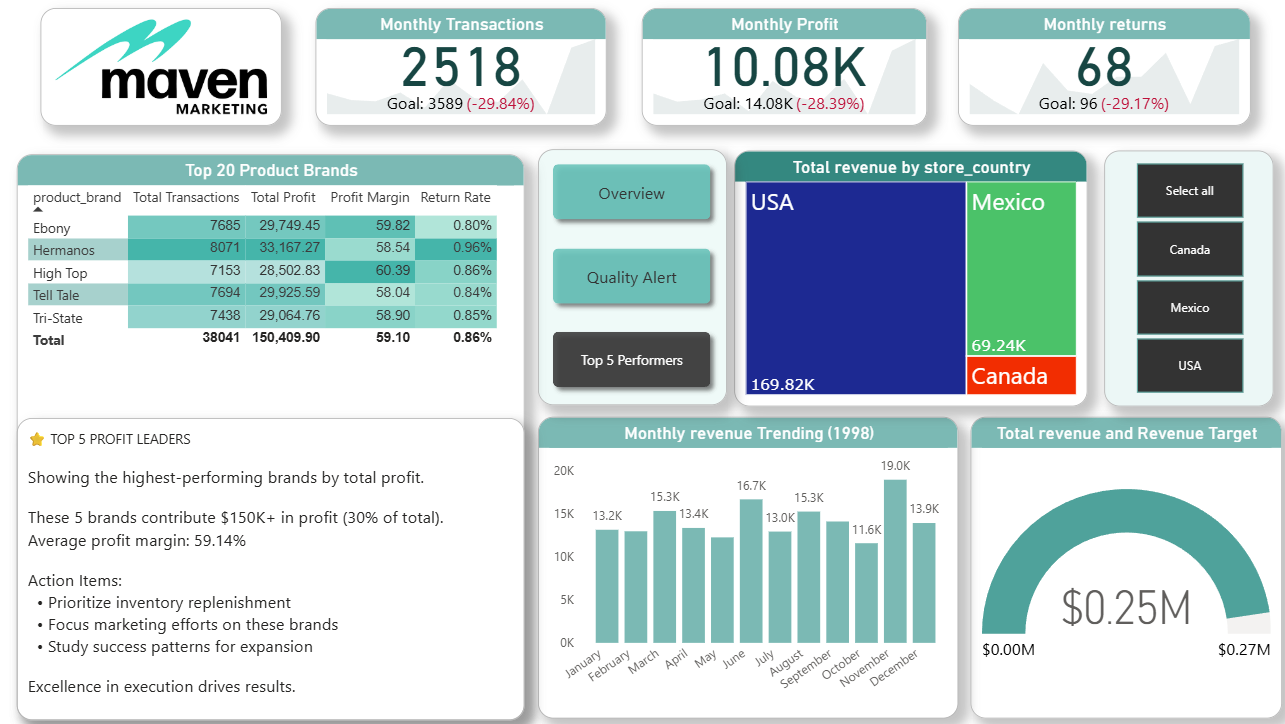

This screenshot's page, from the dashboard's own definition file:
{"tool":"powerbi","page":{"name":"Main dashboard","canvas":[1280,720],"ordinal":0},"visuals":[{"type":"pivotTable","title":"Top 20 Product Brands","fields":{"Rows":["Products.product_brand"],"Values":["Measure table.Total Transactions","Measure table.Total profit","Measure table.Profit Margin","Measure table.Return Rate"]},"box":[28.2,157.2,497.1,553.5],"z":0},{"type":"kpi","title":"Monthly Transactions ","fields":{"TrendLine":["Calendar.date.Variation.Date Hierarchy.Month"],"Goal":["Measure table.Last Month Transactions"],"Indicator":["Measure table.Current Month Transactions"]},"box":[320.4,14.7,284.9,114.9],"z":1000},{"type":"kpi","title":"Monthly returns","fields":{"TrendLine":["Calendar.date.Variation.Date Hierarchy.Month"],"Goal":["Measure table.Last Month Returns"],"Indicator":["Measure table.Current Month Returns"]},"box":[948.9,14.7,286.1,114.9],"z":2000},{"type":"clusteredColumnChart","title":"Monthly revenue Trending (1998)","fields":{"Category":["Calendar.WeekStart.Variation.Date Hierarchy.Year","Calendar.WeekStart.Variation.Date Hierarchy.Quarter","Calendar.WeekStart.Variation.Date Hierarchy.Month","Calendar.WeekStart.Variation.Date Hierarchy.Day"],"Y":["Measure table.Total revenue"]},"box":[537.5,415,411.2,295],"z":3000},{"type":"gauge","fields":{"Y":["Measure table.Total revenue"],"MaxValue":["Measure table.Revenue Target"]},"box":[961.2,415,305,295],"z":4000},{"type":"image","box":[51.4,14.7,236,114.9],"z":5000},{"type":"treemap","fields":{"Group":["Stores.store_country","Stores.store_state","Stores.store_city"],"Values":["Measure table.Total revenue"]},"box":[730,154.3,345.7,250],"z":6000},{"type":"slicer","fields":{"Values":["Stores.store_country"]},"box":[1091.4,154.3,165.7,250],"z":7000},{"type":"kpi","title":"Monthly Profit","fields":{"TrendLine":["Calendar.date.Variation.Date Hierarchy.Month"],"Indicator":["Measure table.Current Month Profit"],"Goal":["Measure table.Last Month Profit"]},"box":[639.5,14.7,278.8,114.9],"z":8000},{"type":"bookmarkNavigator","box":[538,152.9,184.6,250.7],"z":11001}]}

Visuals, with their boxes in screenshot pixels (x1, y1, x2, y2), scaled from the page's 1280x720 canvas onto the 1285x724 screenshot:
"Top 20 Product Brands" pivotTable: <box>28,158,527,715</box>
"Monthly Transactions " kpi: <box>322,15,608,130</box>
"Monthly returns" kpi: <box>953,15,1240,130</box>
"Monthly revenue Trending (1998)" clusteredColumnChart: <box>540,417,952,714</box>
gauge - Measure table.Total revenue x Measure table.Revenue Target: <box>965,417,1271,714</box>
image: <box>52,15,289,130</box>
treemap - Stores.store_country x Stores.store_state: <box>733,155,1080,407</box>
slicer - Stores.store_country: <box>1096,155,1262,407</box>
"Monthly Profit" kpi: <box>642,15,922,130</box>
bookmarkNavigator: <box>540,154,725,406</box>
